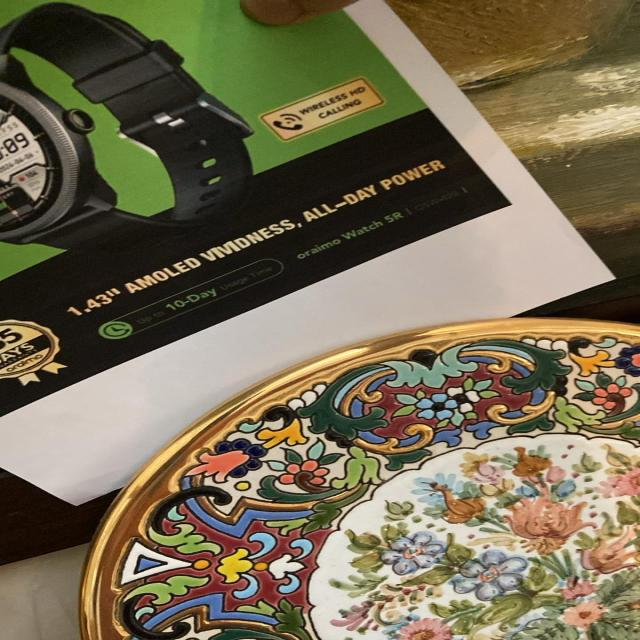Oraimo Watch 5R OSW-820: (292, 182, 477, 268)
